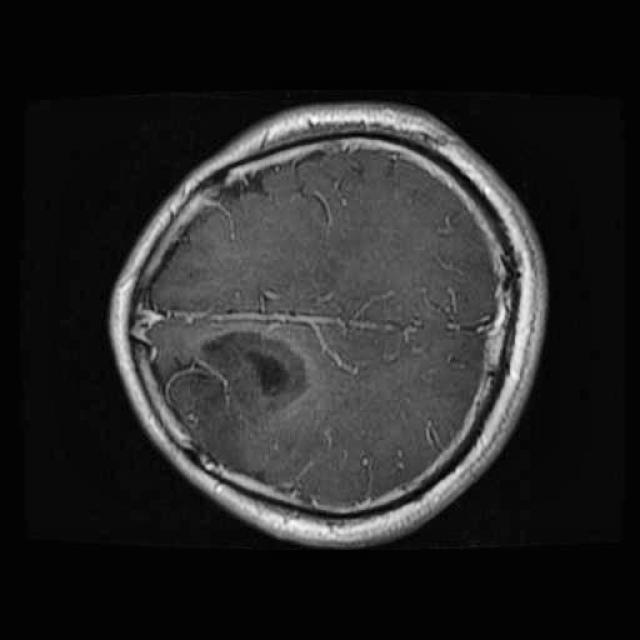Tumor: (145, 324, 324, 496)
